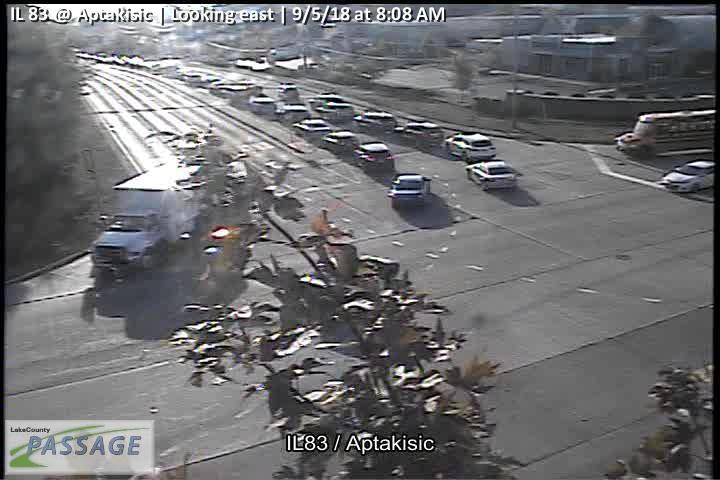Bus: (612, 110, 720, 159)
SUV: (388, 121, 444, 149), (443, 131, 495, 161), (354, 141, 396, 174)
Sedan: (661, 159, 715, 195), (463, 160, 522, 191), (387, 172, 431, 209), (324, 130, 358, 154)
Truck: (88, 157, 202, 279)
